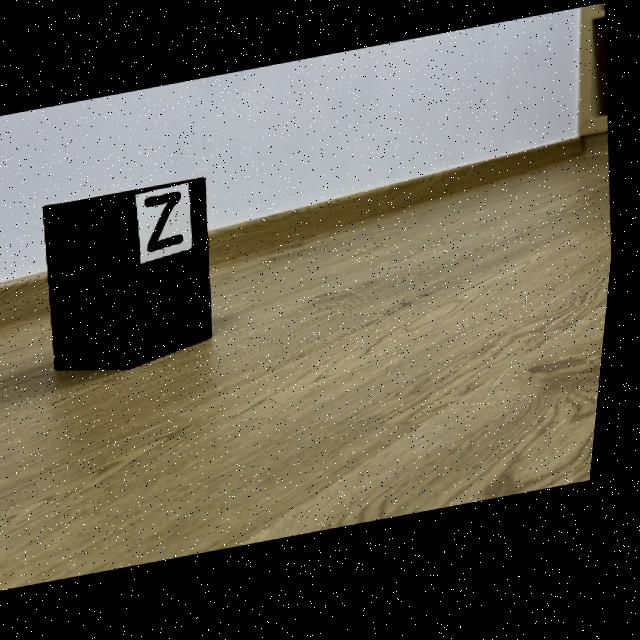Z: (149, 195, 189, 255)
